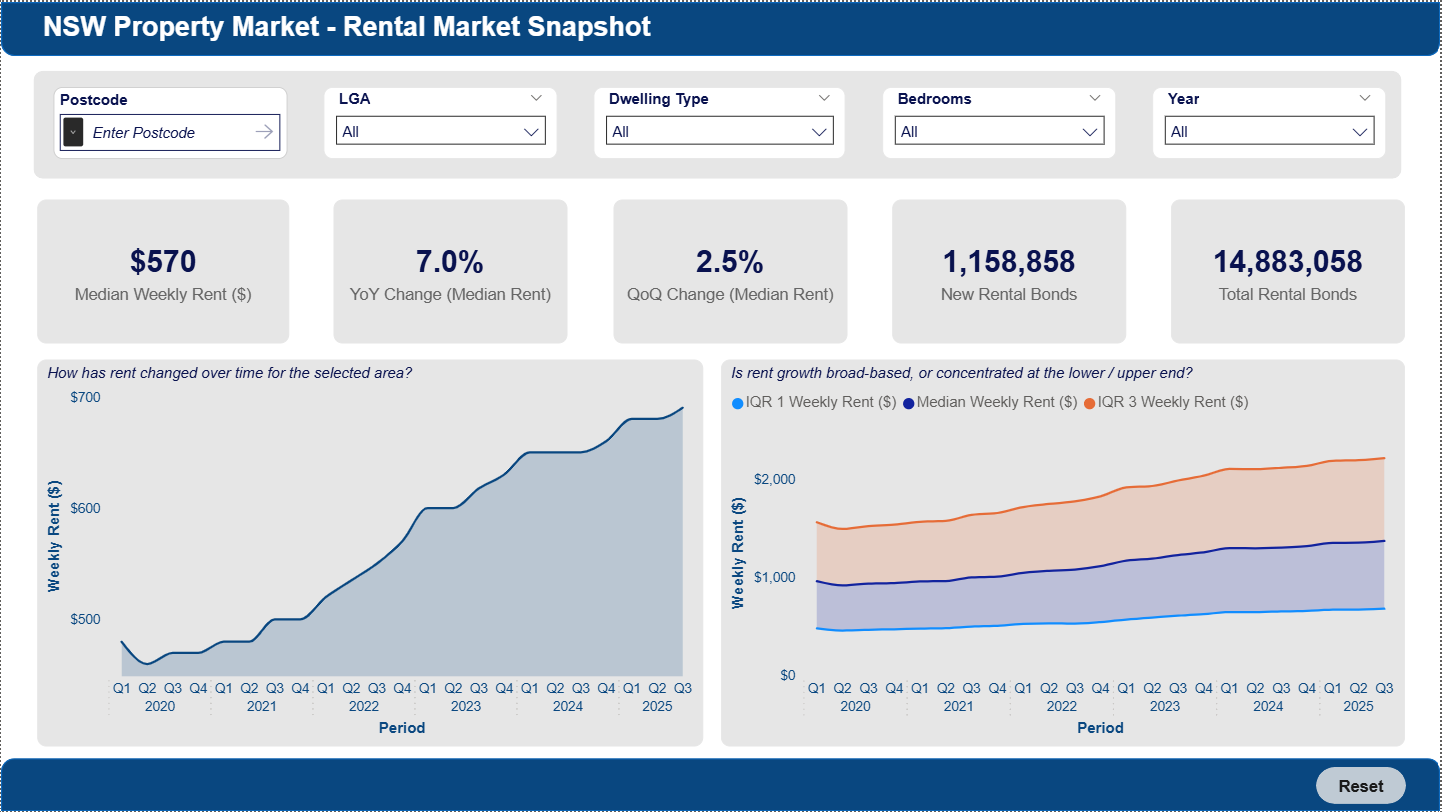

This screenshot's page, from the dashboard's own definition file:
{"tool":"powerbi","page":{"name":"Rental Market Snapshot","canvas":[1280,720],"ordinal":0},"visuals":[{"type":"shape","box":[0,672,1280,48],"z":0,"group":"g1"},{"type":"shape","box":[0,0,1280,48],"z":1000,"group":"g1"},{"type":"shape","box":[28.4,61.3,1216,96],"z":2000},{"type":"textSlicer","fields":{"Values":["Rent.Postcode"]},"box":[46.9,75.7,208,64],"z":3000},{"type":"slicer","fields":{"Values":["Rent.postcode_to_lga.lga"]},"box":[286.9,75.7,208,64],"z":4000},{"type":"slicer","fields":{"Values":["Rent.Dwelling_Type"]},"box":[526.9,75.7,224,64],"z":5000},{"type":"slicer","fields":{"Values":["Rent.Bedrooms"]},"box":[782.9,75.7,208,64],"z":6000},{"type":"slicer","fields":{"Values":["Rent.Year"]},"box":[1022.9,75.7,208,64],"z":7000},{"type":"card","fields":{"Values":["Median(Rent.Median_WeeklyRent)"]},"box":[32,176,224,128],"z":8000},{"type":"card","fields":{"Values":["Avg(Rent.Annual_ChangePct)"]},"box":[296,176,208,128],"z":9000},{"type":"card","fields":{"Values":["Avg(Rent.Qtrly_ChangePct)"]},"box":[544,176,208,128],"z":10000},{"type":"lineChart","title":"How has rent changed over time for the selected area?","fields":{"Y":["Median(Rent.Median_WeeklyRent)"],"Category":["Rent.Year","Rent.Quarter"]},"box":[32,317.5,592,344],"z":11000},{"type":"stackedAreaChart","title":"Is rent growth broad‑based, or concentrated at the lower / upper end?","fields":{"Y":["Avg(Rent.1st_Q_WeeklyRent)","Median(Rent.Median_WeeklyRent)","Avg(Rent.3rd_Q_WeeklyRent)"],"Category":["Rent.Year","Rent.Quarter"]},"box":[640,317.5,608,344],"z":12000},{"type":"card","fields":{"Values":["Sum(Rent.NewBonds)"]},"box":[792,176,208,128],"z":13000},{"type":"card","fields":{"Values":["Sum(Rent.TotalBonds)"]},"box":[1040,176,208,128],"z":14000},{"type":"actionButton","box":[1168.6,680,80,32.9],"z":15000,"group":"g1"},{"type":"textbox","box":[32,0,560,48],"z":16000,"group":"g1"},{"type":"group","id":"g1","title":"Group 1","box":[0,0,1280,720],"z":17001}]}

Visuals, with their boxes in screenshot pixels (x1, y1, x2, y2), scaled from the page's 1280x720 canvas onto the 1442x812 screenshot:
shape: 0/758/1441/811
shape: 0/0/1441/54
shape: 32/69/1402/177
textSlicer - Rent.Postcode: 53/85/287/158
slicer - Rent.postcode_to_lga.lga: 323/85/558/158
slicer - Rent.Dwelling_Type: 594/85/846/158
slicer - Rent.Bedrooms: 882/85/1116/158
slicer - Rent.Year: 1152/85/1387/158
card - Median(Rent.Median_WeeklyRent): 36/198/288/343
card - Avg(Rent.Annual_ChangePct): 333/198/568/343
card - Avg(Rent.Qtrly_ChangePct): 613/198/847/343
"How has rent changed over time for the selected area?" lineChart: 36/358/703/746
"Is rent growth broad‑based, or concentrated at the lower / upper end?" stackedAreaChart: 721/358/1406/746
card - Sum(Rent.NewBonds): 892/198/1127/343
card - Sum(Rent.TotalBonds): 1172/198/1406/343
actionButton: 1317/767/1407/804
textbox: 36/0/667/54
"Group 1" group: 0/0/1441/811
